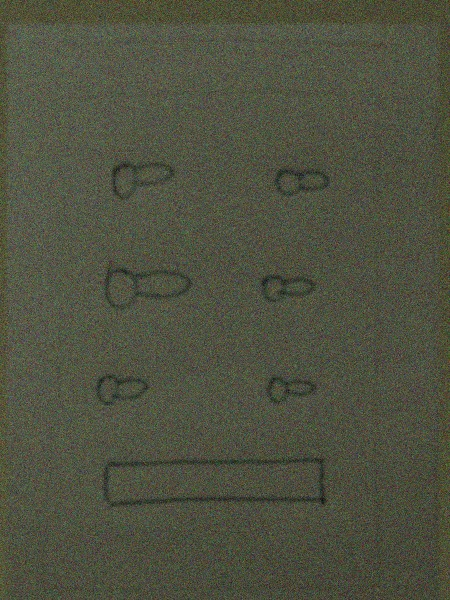switch: (97, 254, 193, 318), (102, 152, 179, 212), (85, 361, 155, 416), (254, 362, 320, 412), (267, 158, 333, 207), (256, 264, 321, 312)
text_input: (95, 452, 337, 518)
